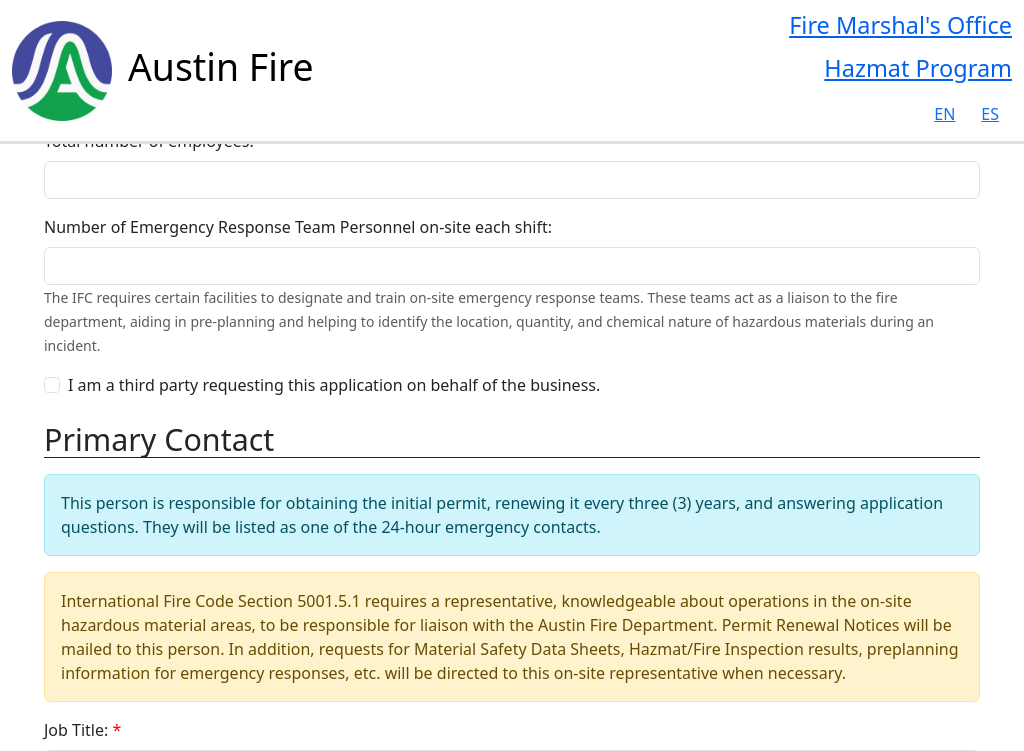
Test case: App › shows third party form when checkbox is checked
(page scrolled)
Click the checkbox labelled "I am a third party": click(52, 385) [44, 377, 60, 393]
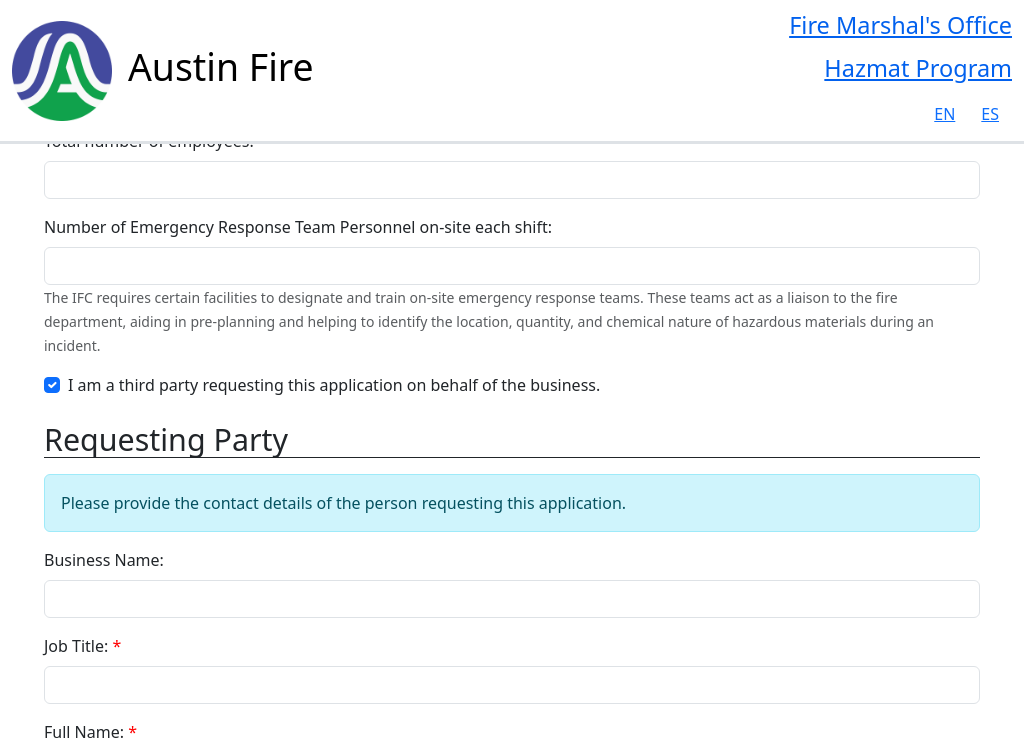
Expected: the heading "Requesting Party" is shown, [44, 421, 980, 458]
